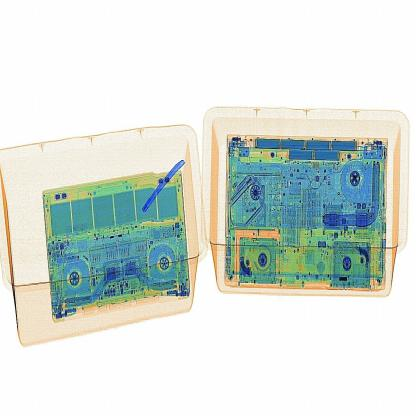pliers: (140, 158, 194, 214)
